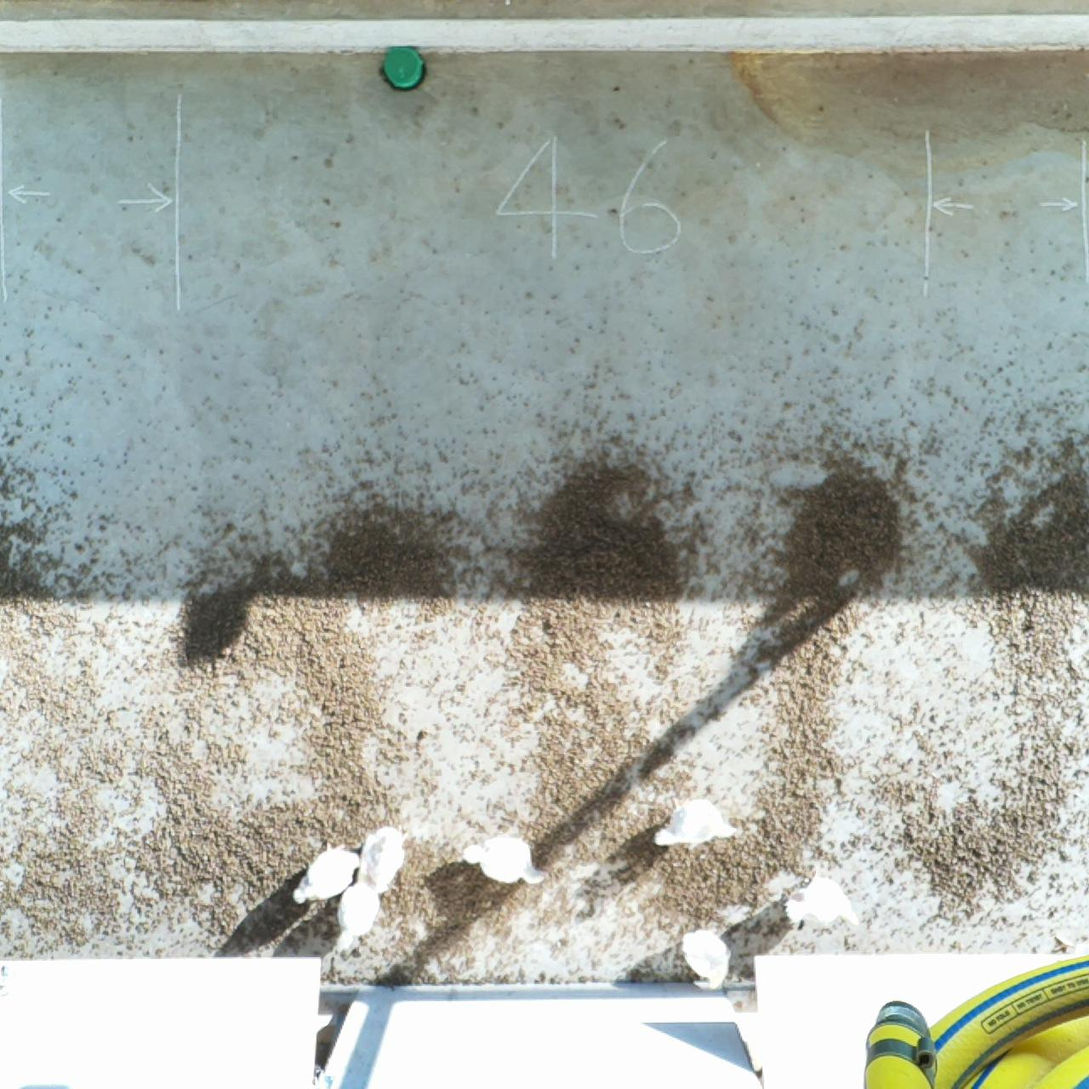chicken: (650, 788, 747, 851), (456, 828, 553, 888), (781, 869, 862, 938), (291, 838, 362, 906), (355, 816, 410, 897), (332, 877, 384, 956), (676, 925, 734, 991)
